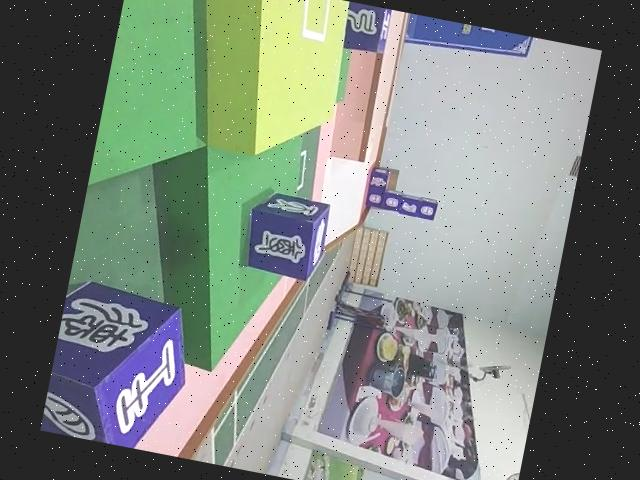R2 Fake Blue: (39, 279, 197, 455), (237, 187, 331, 281), (338, 1, 393, 55)
